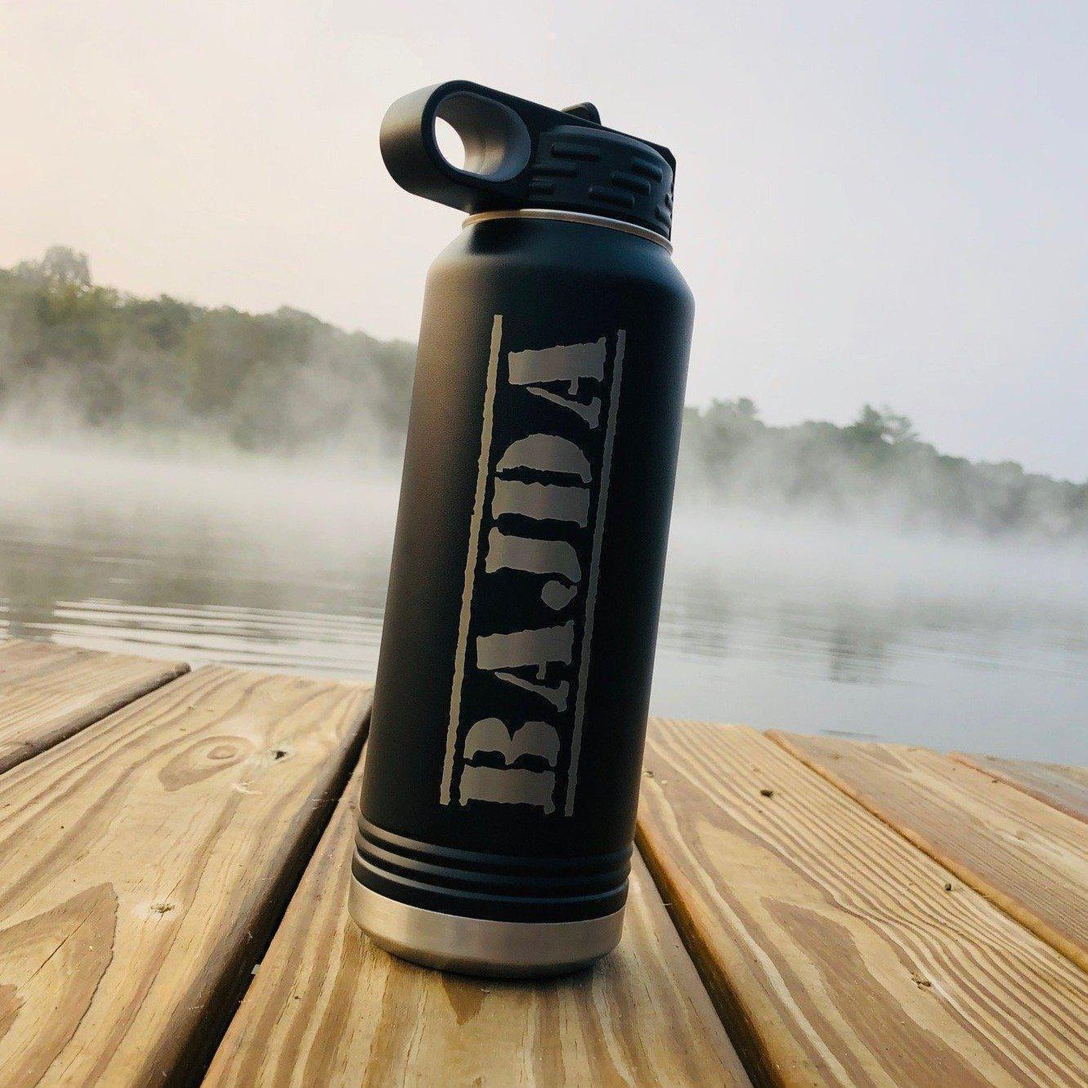gym bottle: (349, 74, 699, 978)
